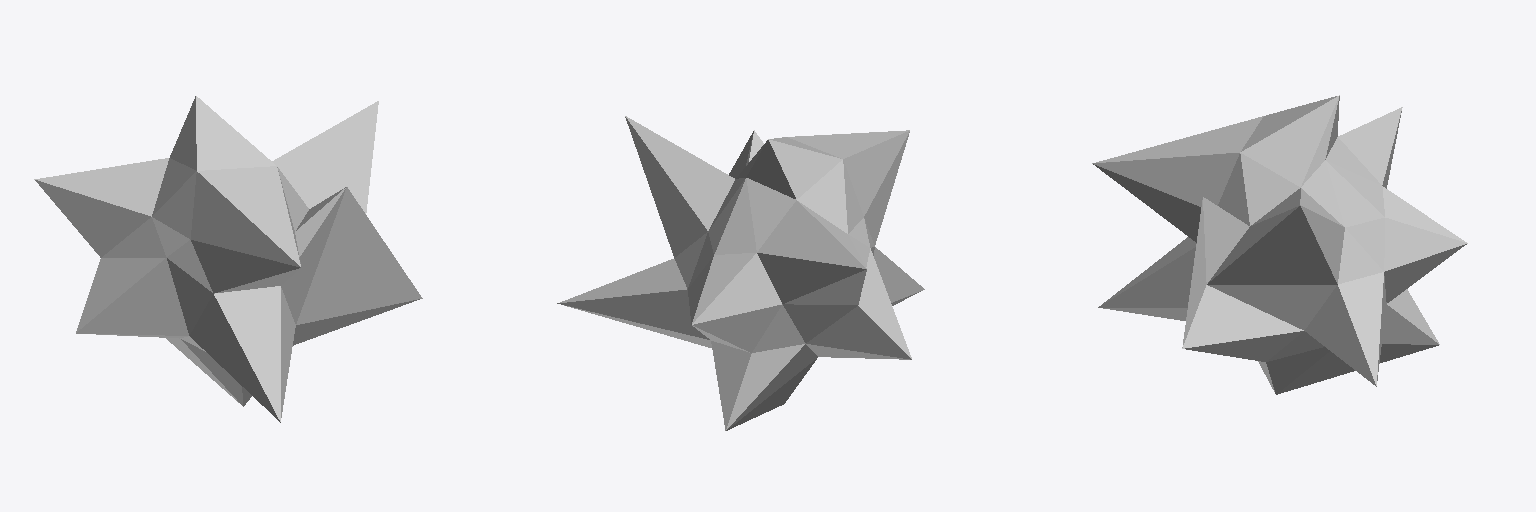
File: explosion_super.obj
The picture shows the model from 3 angles: view 1: azimuth 30°, elevation 25°; view 2: azimuth 150°, elevation 25°; view 3: azimuth 270°, elevation 25°; orthographic projection.
Visible parts, largest first — view 1: Icosphere.001; view 2: Icosphere.001; view 3: Icosphere.001.
Part boxes in pixels (bbox=[...]): Icosphere.001: bbox=[34, 96, 422, 422]; Icosphere.001: bbox=[557, 116, 924, 430]; Icosphere.001: bbox=[1092, 95, 1467, 394].
Size of the model in its own units: 6.13 by 5.27 by 6.15.